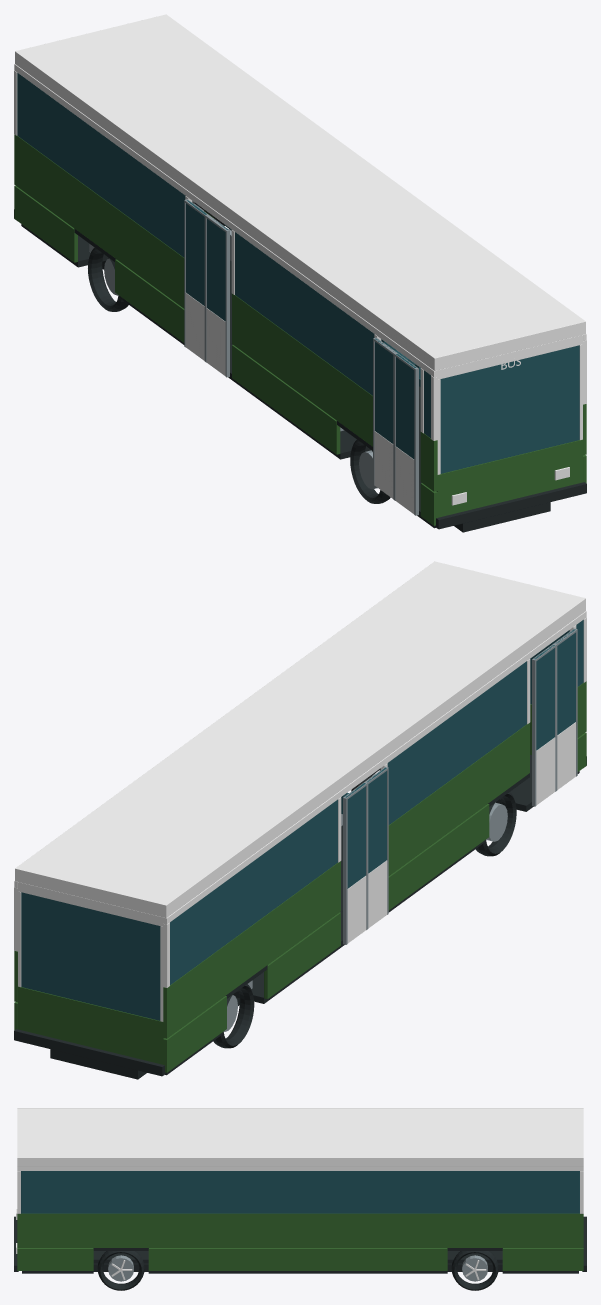
Rendered from source-edit.glb.
3 views of the same model, one above another, from view 1: azimuth 30°, elevation 25°; view 2: azimuth 150°, elevation 25°; view 3: azimuth 270°, elevation 25° (orthographic). The views are drawn at different scales.
Parts seen in each view (by area): view 1: Roof, End_Window, Window_Band.002, Side_Wall.002, Window_Band.001, Side_Wall.001, End_Lower, Lower_Body.001, Top_Rail, Lower_Body.002, Lower_Body.003, Bumper.001 (+16 smaller); view 2: Roof, End_Window.001, Window_Band.002, Side_Wall.002, Window_Band.001, Side_Wall.001, End_Lower.001, Lower_Body.001, Top_Rail, Lower_Body.002, Lower_Body.003, Bumper (+15 smaller); view 3: Roof, Window_Band.003, Side_Wall.003, Lower_Body.005, Top_Rail.001, Lower_Body.006, Lower_Body.004, Side_Floor.004, Tyre_RR, Tyre_FR, Centre_Low_Floor, Hub_RR (+2 smaller).
Part boxes in pixels (x1=…): Roof: x1=15, y1=14, x2=585, y2=370; End_Window: x1=440, y1=345, x2=579, y2=473; Window_Band.002: x1=17, y1=73, x2=185, y2=257; Side_Wall.002: x1=14, y1=134, x2=184, y2=308; Window_Band.001: x1=235, y1=232, x2=374, y2=395; Side_Wall.001: x1=232, y1=293, x2=372, y2=446; End_Lower: x1=436, y1=439, x2=582, y2=517; Lower_Body.001: x1=232, y1=345, x2=340, y2=454; Top_Rail: x1=14, y1=64, x2=437, y2=377; Lower_Body.002: x1=115, y1=259, x2=184, y2=342; Lower_Body.003: x1=14, y1=185, x2=77, y2=262; Bumper.001: x1=435, y1=482, x2=586, y2=529; Roof: x1=15, y1=561, x2=585, y2=917; End_Window.001: x1=21, y1=892, x2=160, y2=1020; Window_Band.002: x1=170, y1=799, x2=337, y2=984; Side_Wall.002: x1=163, y1=861, x2=340, y2=1038; Window_Band.001: x1=387, y1=661, x2=526, y2=824; Side_Wall.001: x1=388, y1=723, x2=529, y2=875; End_Lower.001: x1=18, y1=986, x2=164, y2=1064; Lower_Body.001: x1=388, y1=804, x2=489, y2=910; Top_Rail: x1=163, y1=611, x2=586, y2=924; Lower_Body.002: x1=264, y1=912, x2=340, y2=998; Lower_Body.003: x1=163, y1=996, x2=226, y2=1072; Bumper: x1=14, y1=1029, x2=165, y2=1076; Roof: x1=17, y1=1108, x2=583, y2=1166; Window_Band.003: x1=21, y1=1171, x2=579, y2=1213; Side_Wall.003: x1=17, y1=1213, x2=583, y2=1247; Lower_Body.005: x1=148, y1=1248, x2=447, y2=1270; Top_Rail.001: x1=17, y1=1166, x2=583, y2=1170; Lower_Body.006: x1=502, y1=1248, x2=583, y2=1270; Lower_Body.004: x1=17, y1=1248, x2=93, y2=1270; Side_Floor.004: x1=148, y1=1271, x2=447, y2=1273; Tyre_RR: x1=451, y1=1251, x2=498, y2=1290; Tyre_FR: x1=97, y1=1251, x2=144, y2=1290; Centre_Low_Floor: x1=93, y1=1251, x2=502, y2=1263; Hub_RR: x1=462, y1=1255, x2=487, y2=1281.
Bounding box in the file's own units: 2.6 × 3.2 × 12.14.
